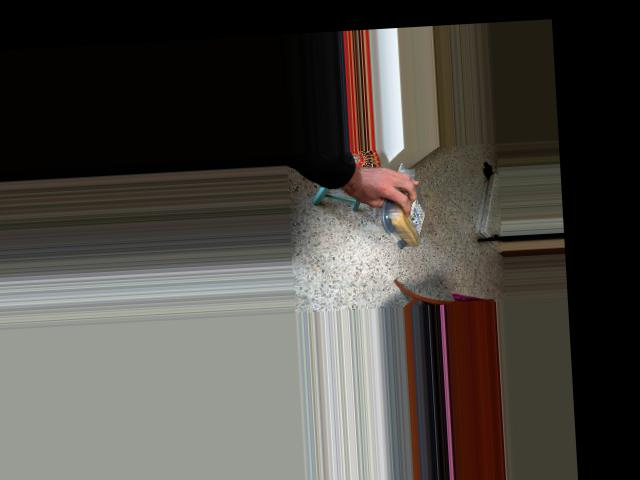cheese: (385, 173, 426, 249)
